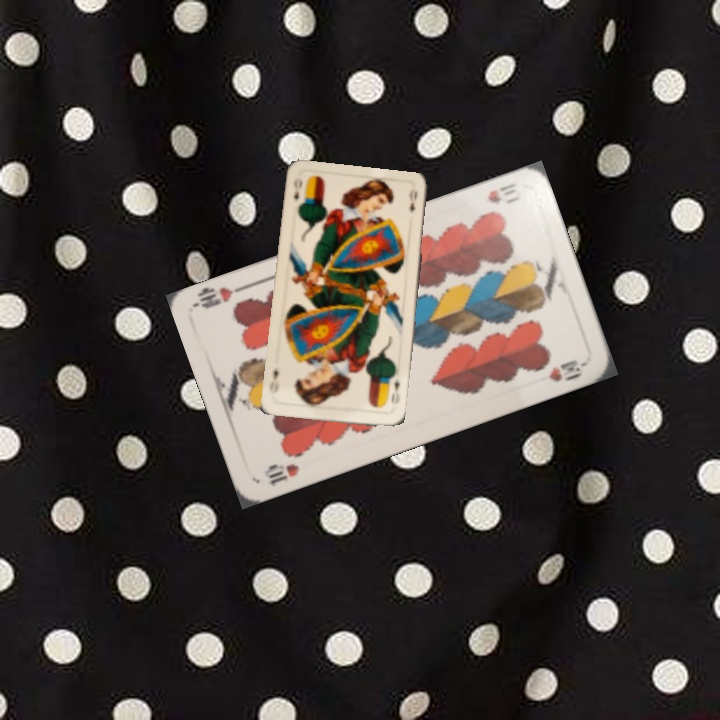EO: (387, 375, 402, 408), (289, 174, 305, 202)
H10: (260, 459, 302, 489), (483, 178, 522, 207)
